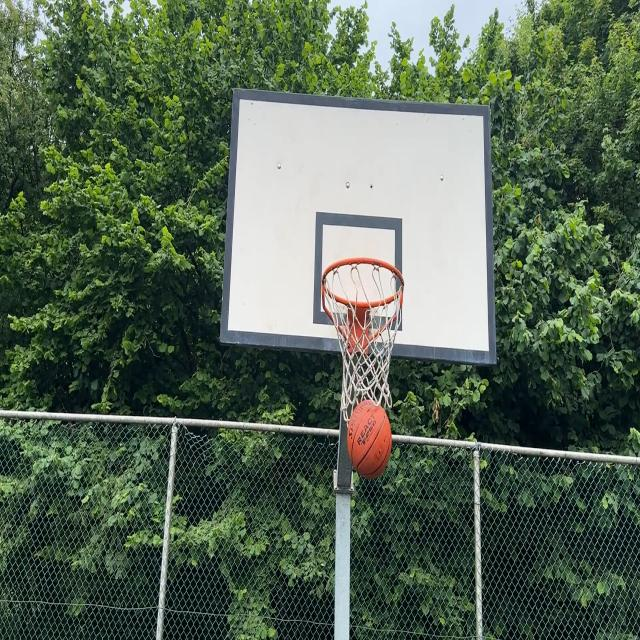Basketball: (347, 401, 392, 478)
